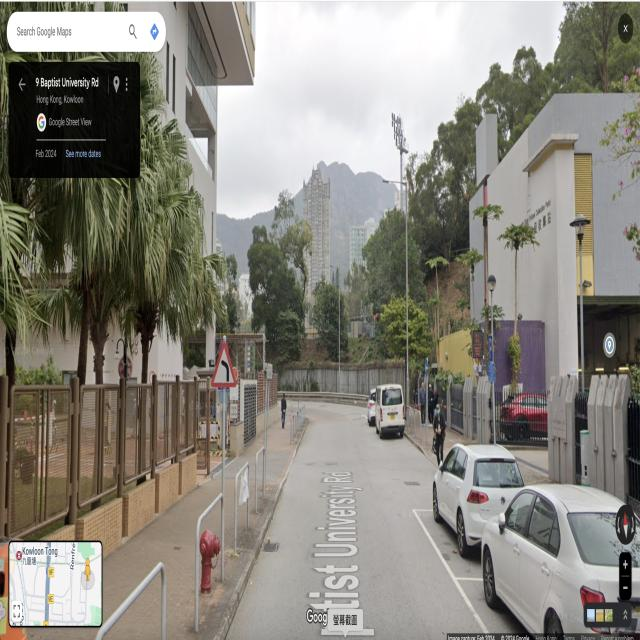Warning-Sign: (210, 342, 236, 387)
